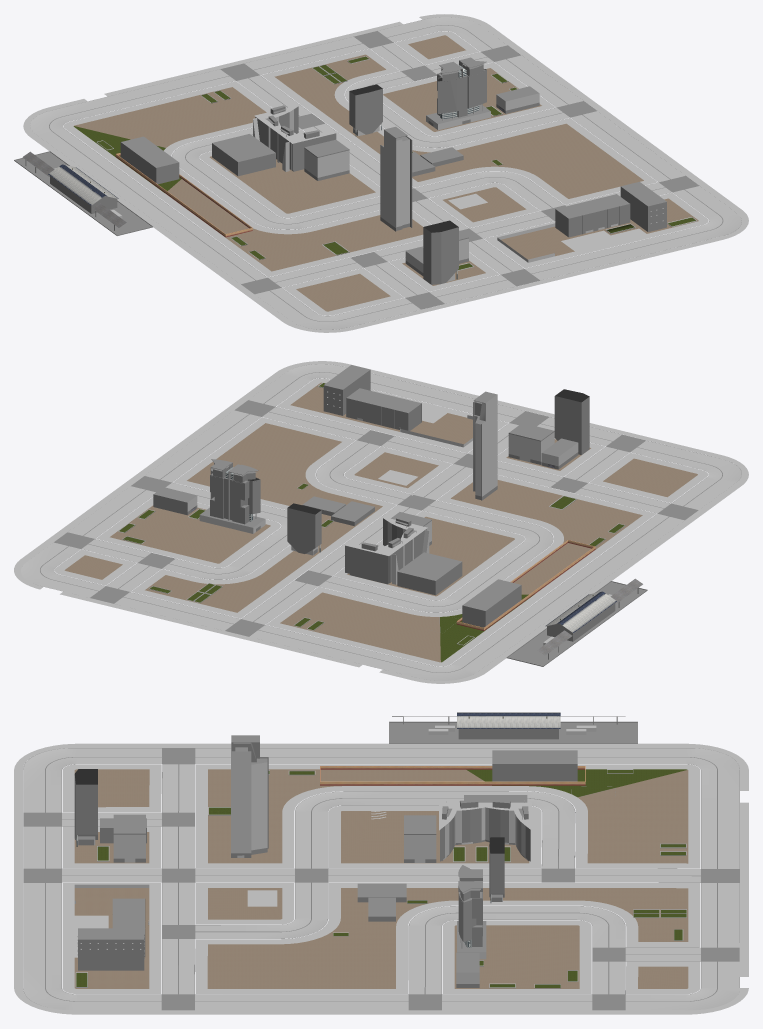
The model's file is SmallCity_new.FBX.
3 views of the same model, one above another, from view 1: azimuth 30°, elevation 25°; view 2: azimuth 150°, elevation 25°; view 3: azimuth 270°, elevation 25° (orthographic). The views are drawn at different scales.
Visible parts, largest first — view 1: Street02, Ground01, Sidewalk01, Sidewalk02, Building44, Building21, Building43, Building47, Building58, Building28, Building56, Building46 (+9 smaller); view 2: Street02, Ground01, Sidewalk01, Sidewalk02, Building43, Building44, Building21, Building47, Building58, Building56, Building28, Building46 (+9 smaller); view 3: Street02, Ground01, Sidewalk01, Sidewalk02, Building21, Building43, Object133, Building47, Building27, Garden15, Building46, Building44 (+12 smaller).
Part boxes in pixels (bbox=[...]): Street02: bbox=[30, 17, 741, 329]; Ground01: bbox=[73, 35, 698, 311]; Sidewalk01: bbox=[63, 31, 708, 315]; Sidewalk02: bbox=[23, 14, 748, 332]; Building44: bbox=[426, 57, 490, 130]; Building21: bbox=[380, 126, 412, 231]; Building43: bbox=[253, 104, 338, 171]; Building47: bbox=[22, 151, 126, 230]; Building58: bbox=[555, 194, 630, 237]; Building28: bbox=[423, 220, 458, 284]; Building56: bbox=[212, 134, 275, 176]; Building46: bbox=[120, 136, 179, 184]; Street02: bbox=[21, 364, 741, 680]; Ground01: bbox=[64, 382, 697, 662]; Sidewalk01: bbox=[54, 378, 708, 666]; Sidewalk02: bbox=[14, 361, 748, 683]; Building43: bbox=[342, 516, 429, 584]; Building44: bbox=[199, 459, 265, 533]; Building21: bbox=[473, 391, 497, 500]; Building47: bbox=[537, 578, 642, 659]; Building58: bbox=[346, 388, 421, 430]; Building56: bbox=[397, 552, 462, 595]; Building28: bbox=[554, 389, 589, 454]; Building46: bbox=[462, 579, 521, 627]; Street02: bbox=[23, 748, 739, 1010]; Ground01: bbox=[74, 769, 688, 988]; Sidewalk01: bbox=[62, 764, 700, 993]; Sidewalk02: bbox=[14, 743, 748, 1014]; Building21: bbox=[231, 735, 268, 857]; Building43: bbox=[439, 800, 531, 861]; Object133: bbox=[389, 721, 637, 743]; Building47: bbox=[392, 712, 625, 739]; Building27: bbox=[77, 928, 144, 970]; Garden15: bbox=[75, 770, 686, 988]; Building46: bbox=[492, 750, 577, 781]; Building44: bbox=[457, 865, 486, 959].
Size of the model in its own units: 163162 by 29610 by 173444.
